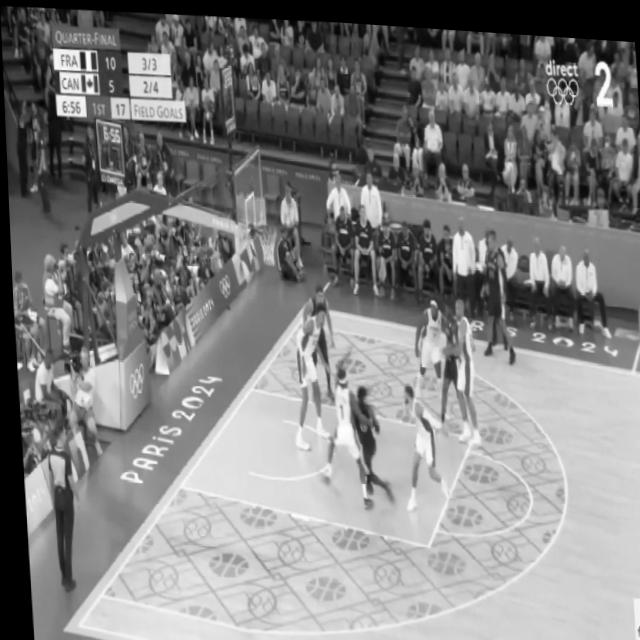ball_handler: (345, 377, 395, 500)
